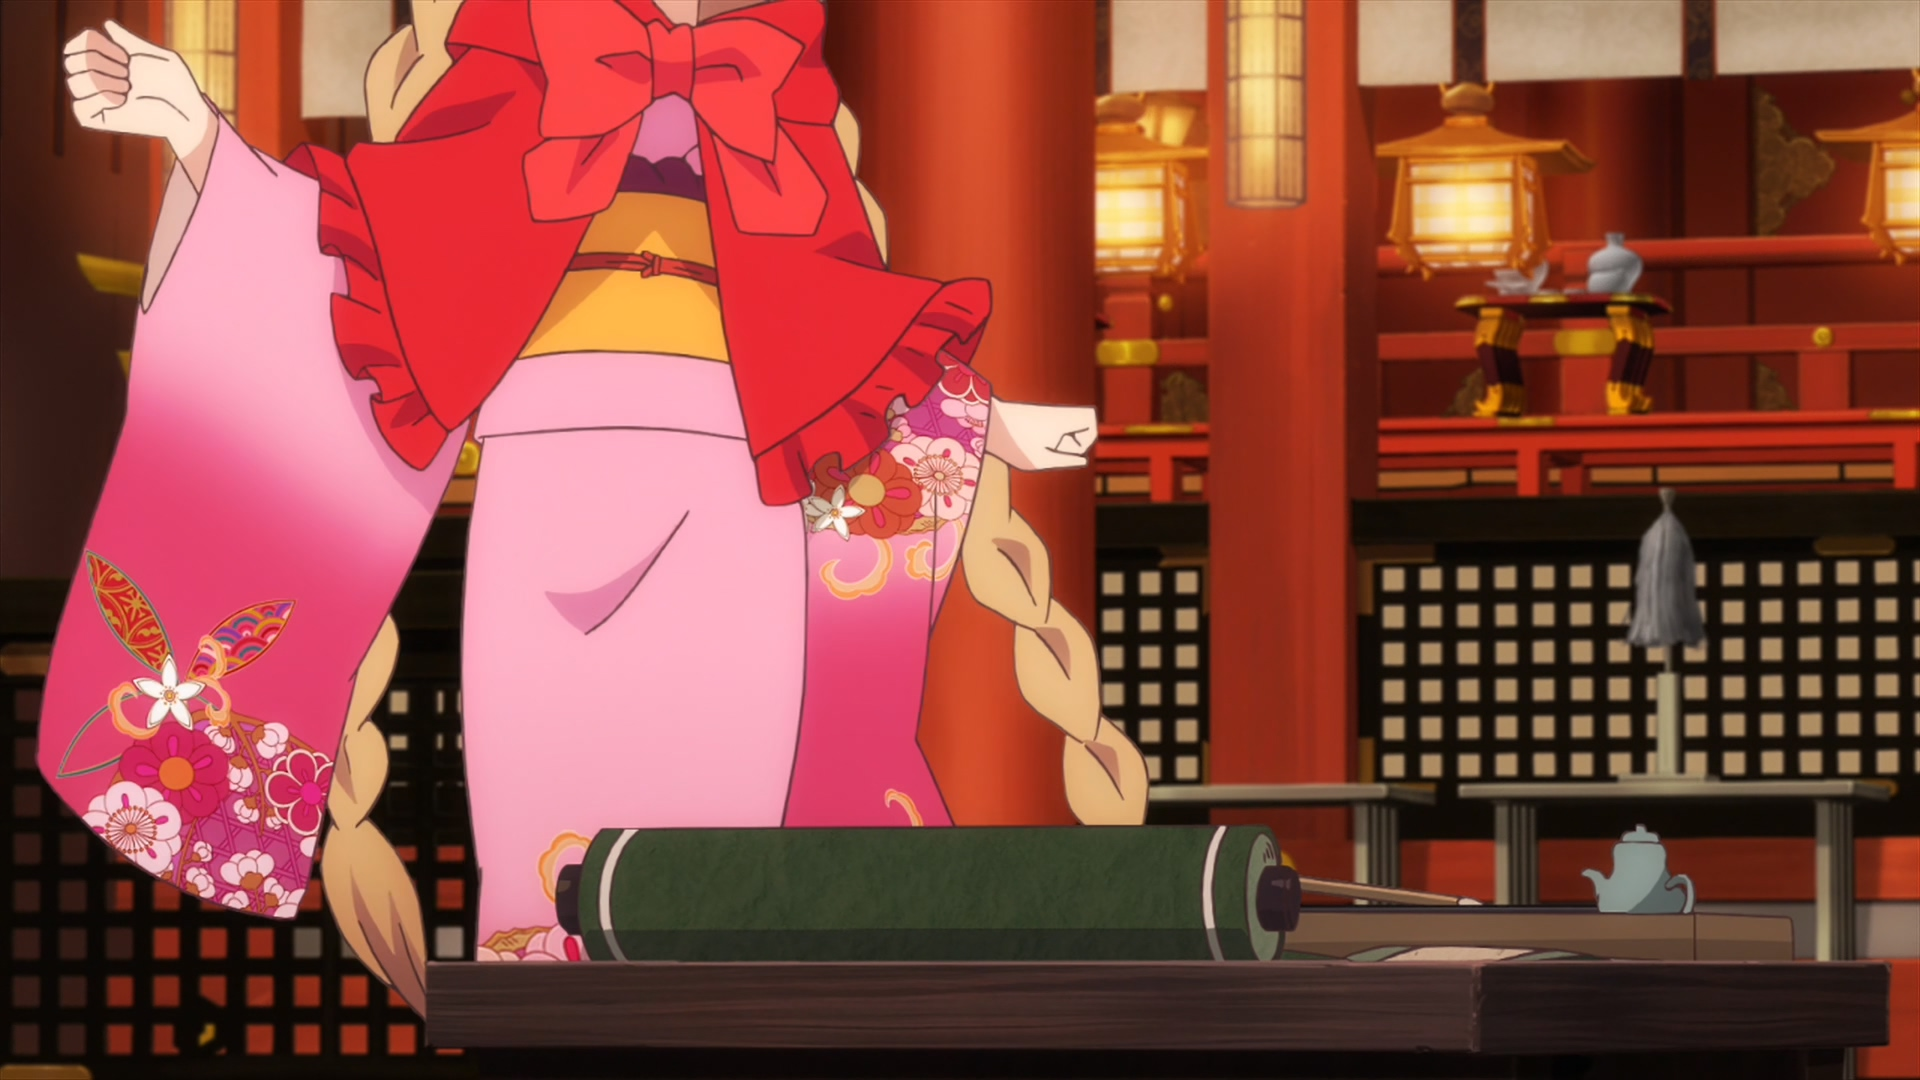柚: (34, 1, 1150, 1025)
